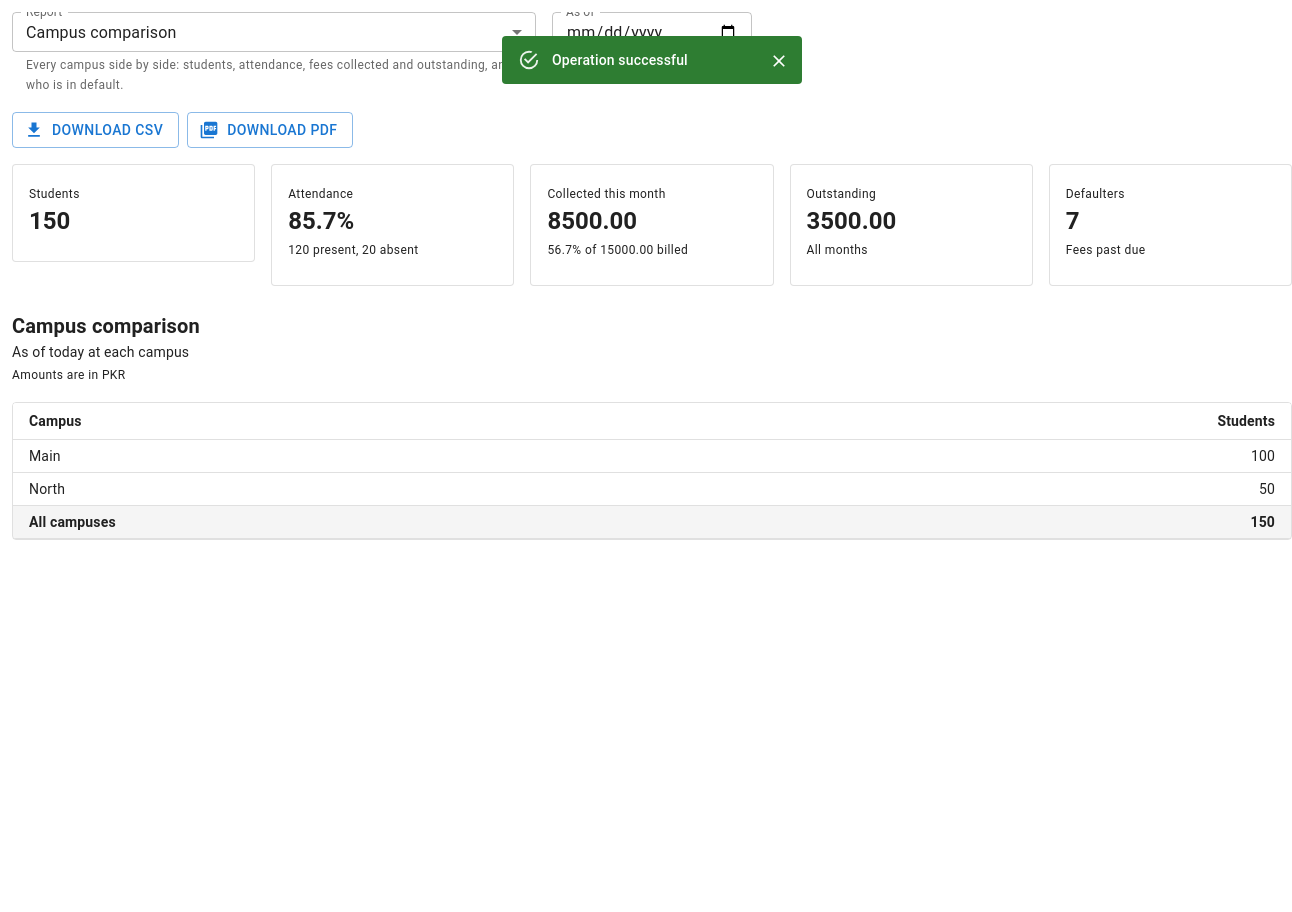
ReportsManager › for a superadmin viewing one institution, asks about that institution and offers only its campuses
The width and height of the screenshot is (1292, 912).
Check: the heading "Campus comparison" is shown, box [12,314,200,338]
Click the dropdown named "Report" at (101, 32), box [26,22,176,42]
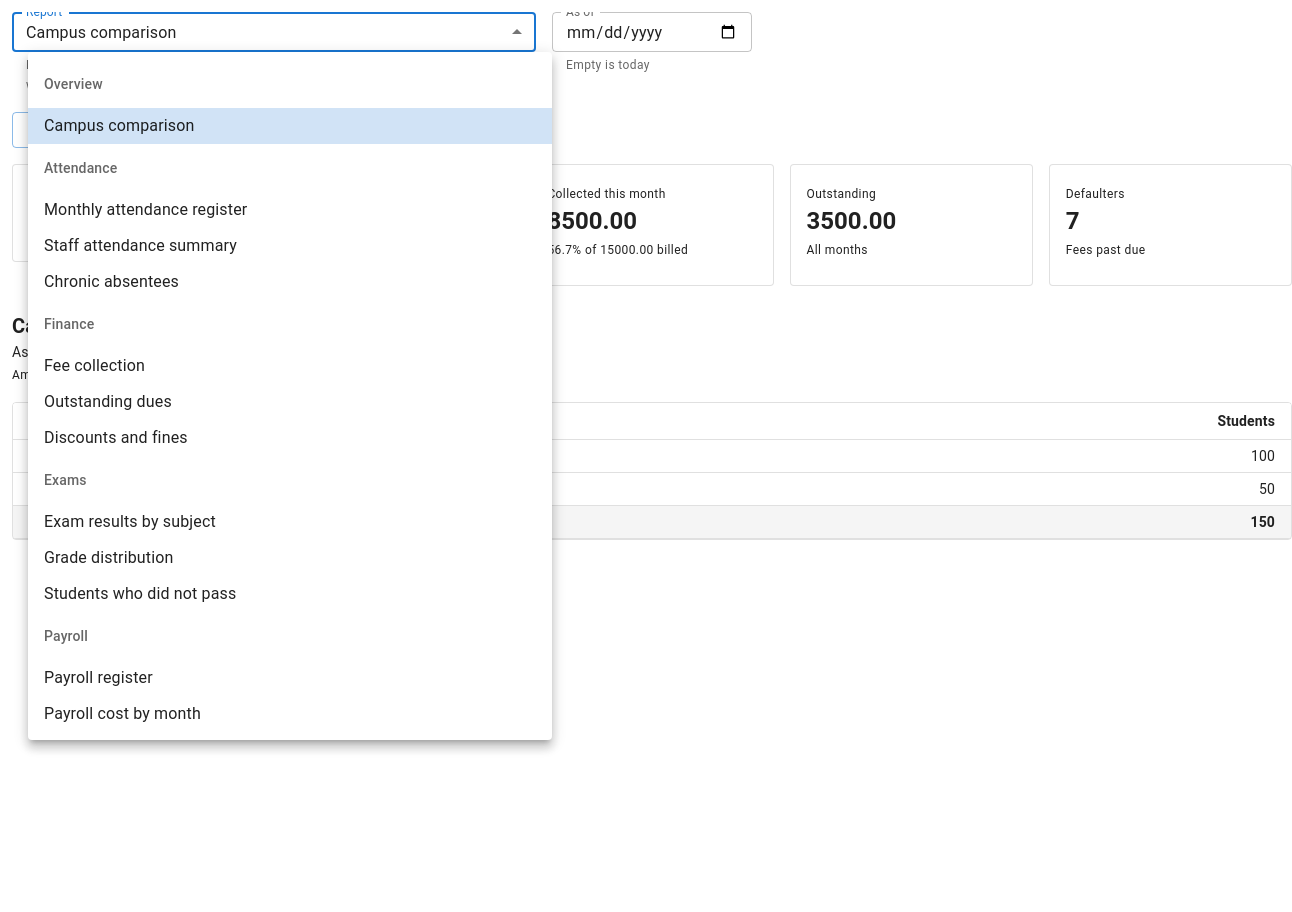
Click the option "Outstanding dues" at (108, 402), box [44,392,172,411]
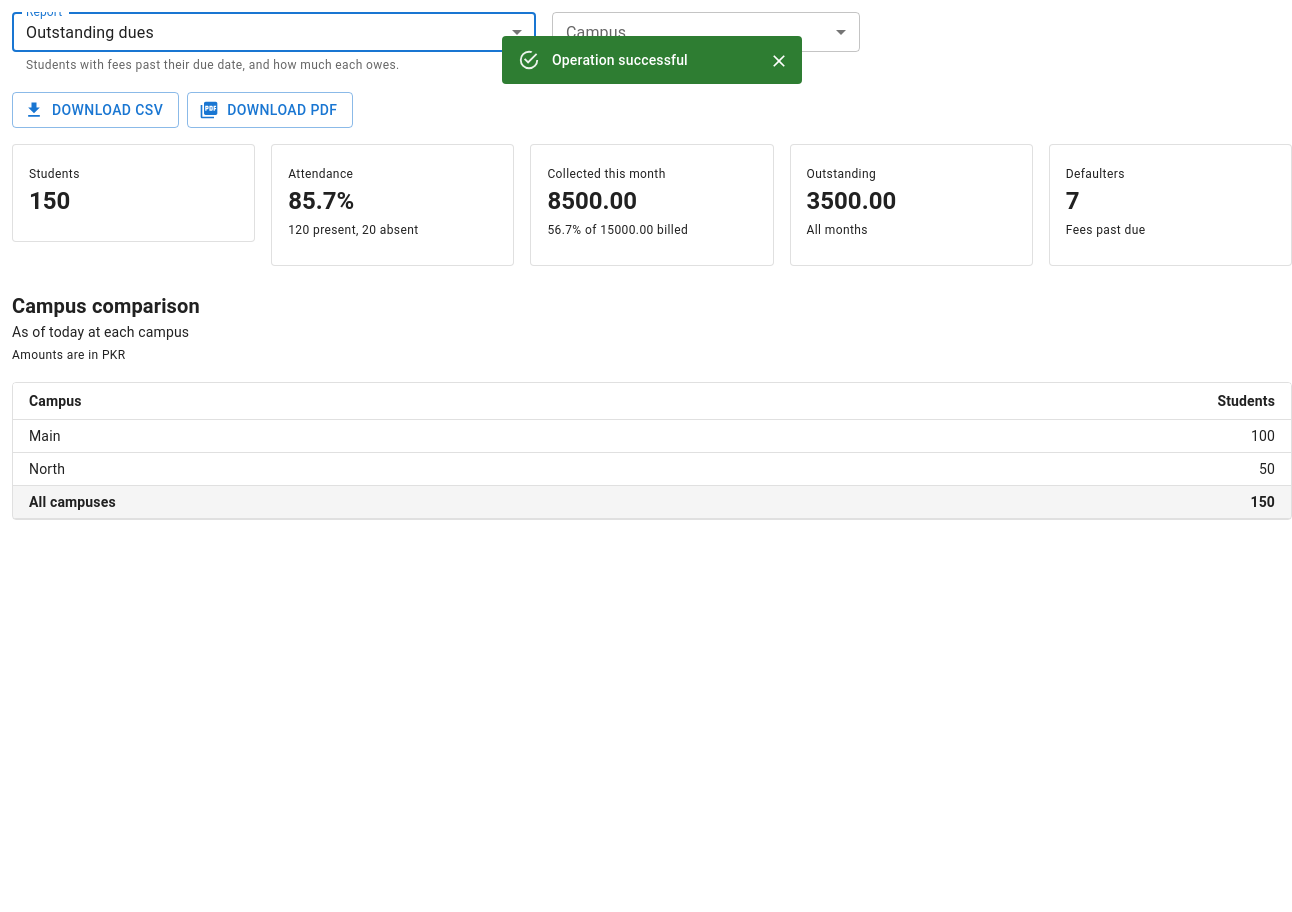
Click the dropdown named "Campus" at (706, 32), box [552,12,860,52]
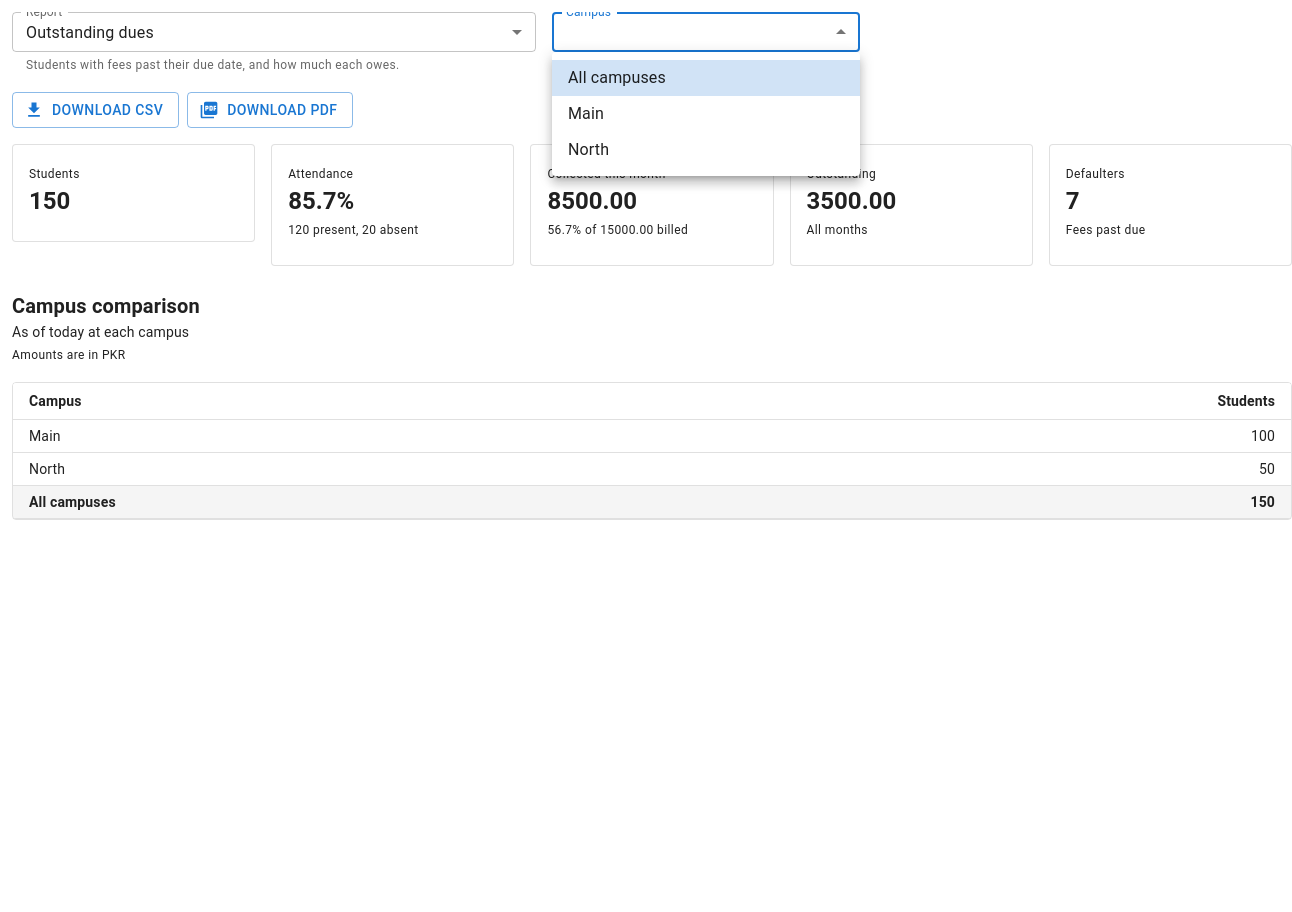
Check: the option "North" is shown, box [568,140,609,159]
